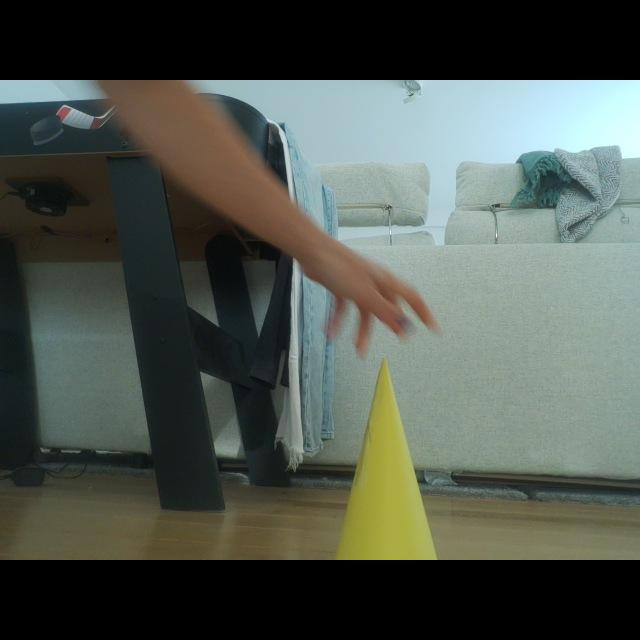bolya: (336, 360, 436, 559)
